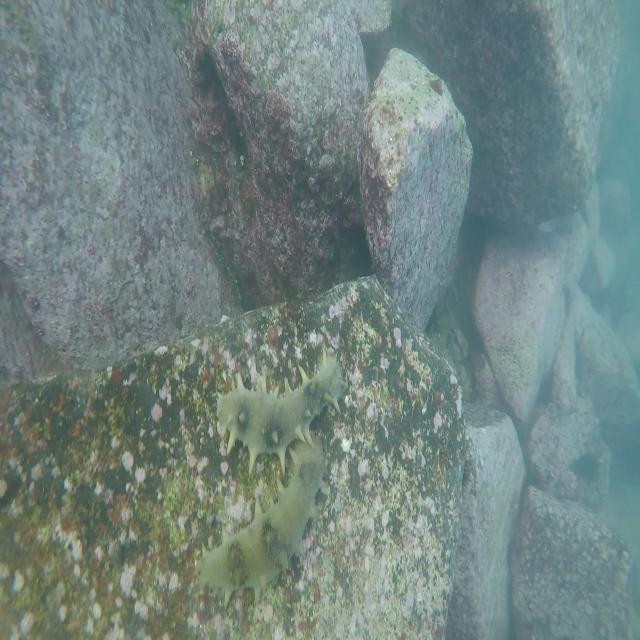echinus: (571, 446, 599, 481)
holothurian: (192, 442, 328, 606), (213, 364, 347, 477)
